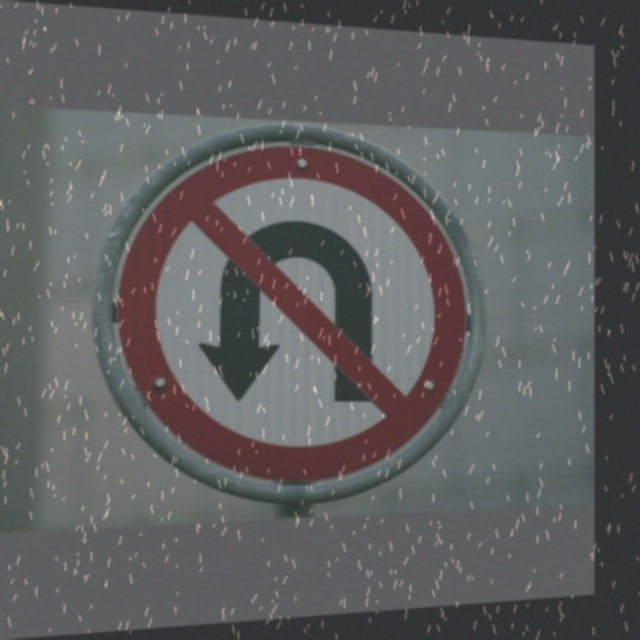U_Turn_Prohibited: (94, 109, 473, 507)
